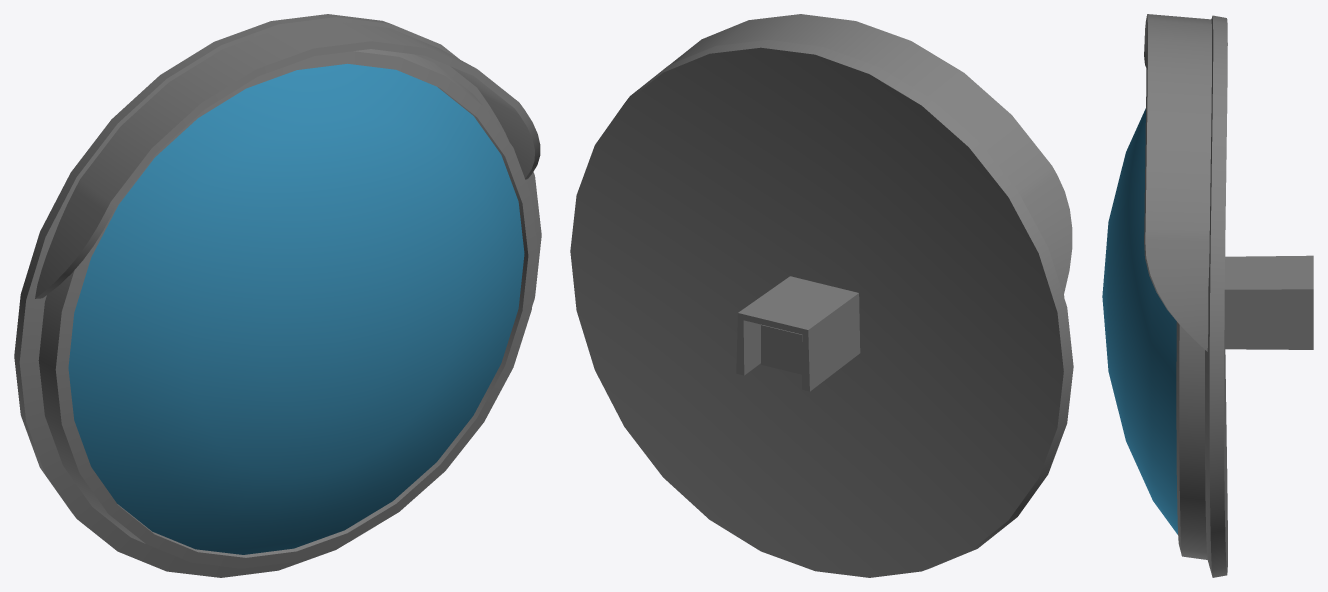
The model's file is SM_mirror_round_01.fbx.
3 renders of one model, left to right at view 1: azimuth 30°, elevation 25°; view 2: azimuth 150°, elevation 25°; view 3: azimuth 270°, elevation 25°, orthographic. The views are drawn at different scales.
Visible parts, largest first — view 1: Object32716; view 2: Object32716; view 3: Object32716.
Part boxes in pixels (box(x1,y1,x2,y2)): Object32716: box(14, 14, 541, 577); Object32716: box(570, 14, 1073, 577); Object32716: box(1102, 14, 1313, 577).
Bounding box in the file's own units: 34.15 × 34.24 × 12.81.
